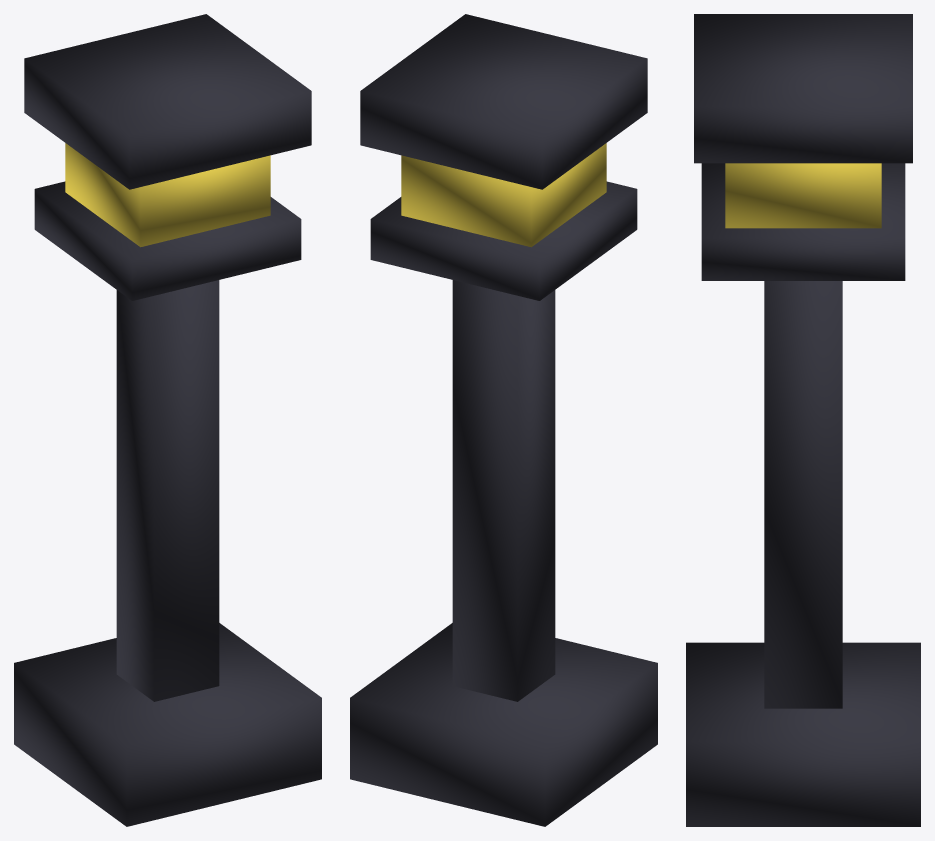
Rendered from voxel_street_lamp.obj.
The picture shows the model from 3 angles, left to right: view 1: azimuth 30°, elevation 25°; view 2: azimuth 150°, elevation 25°; view 3: azimuth 270°, elevation 25°; orthographic projection. The views are drawn at different scales.
Visible parts, largest first — view 1: voxel_street_lamp; view 2: voxel_street_lamp; view 3: voxel_street_lamp.
Boxes of the visible parts, x1,y1,x2,y2 form: voxel_street_lamp: (14,14,321,826); voxel_street_lamp: (350,14,657,826); voxel_street_lamp: (686,14,920,826).
Bounding box in the file's own units: 0.3 × 1.01 × 0.3.
